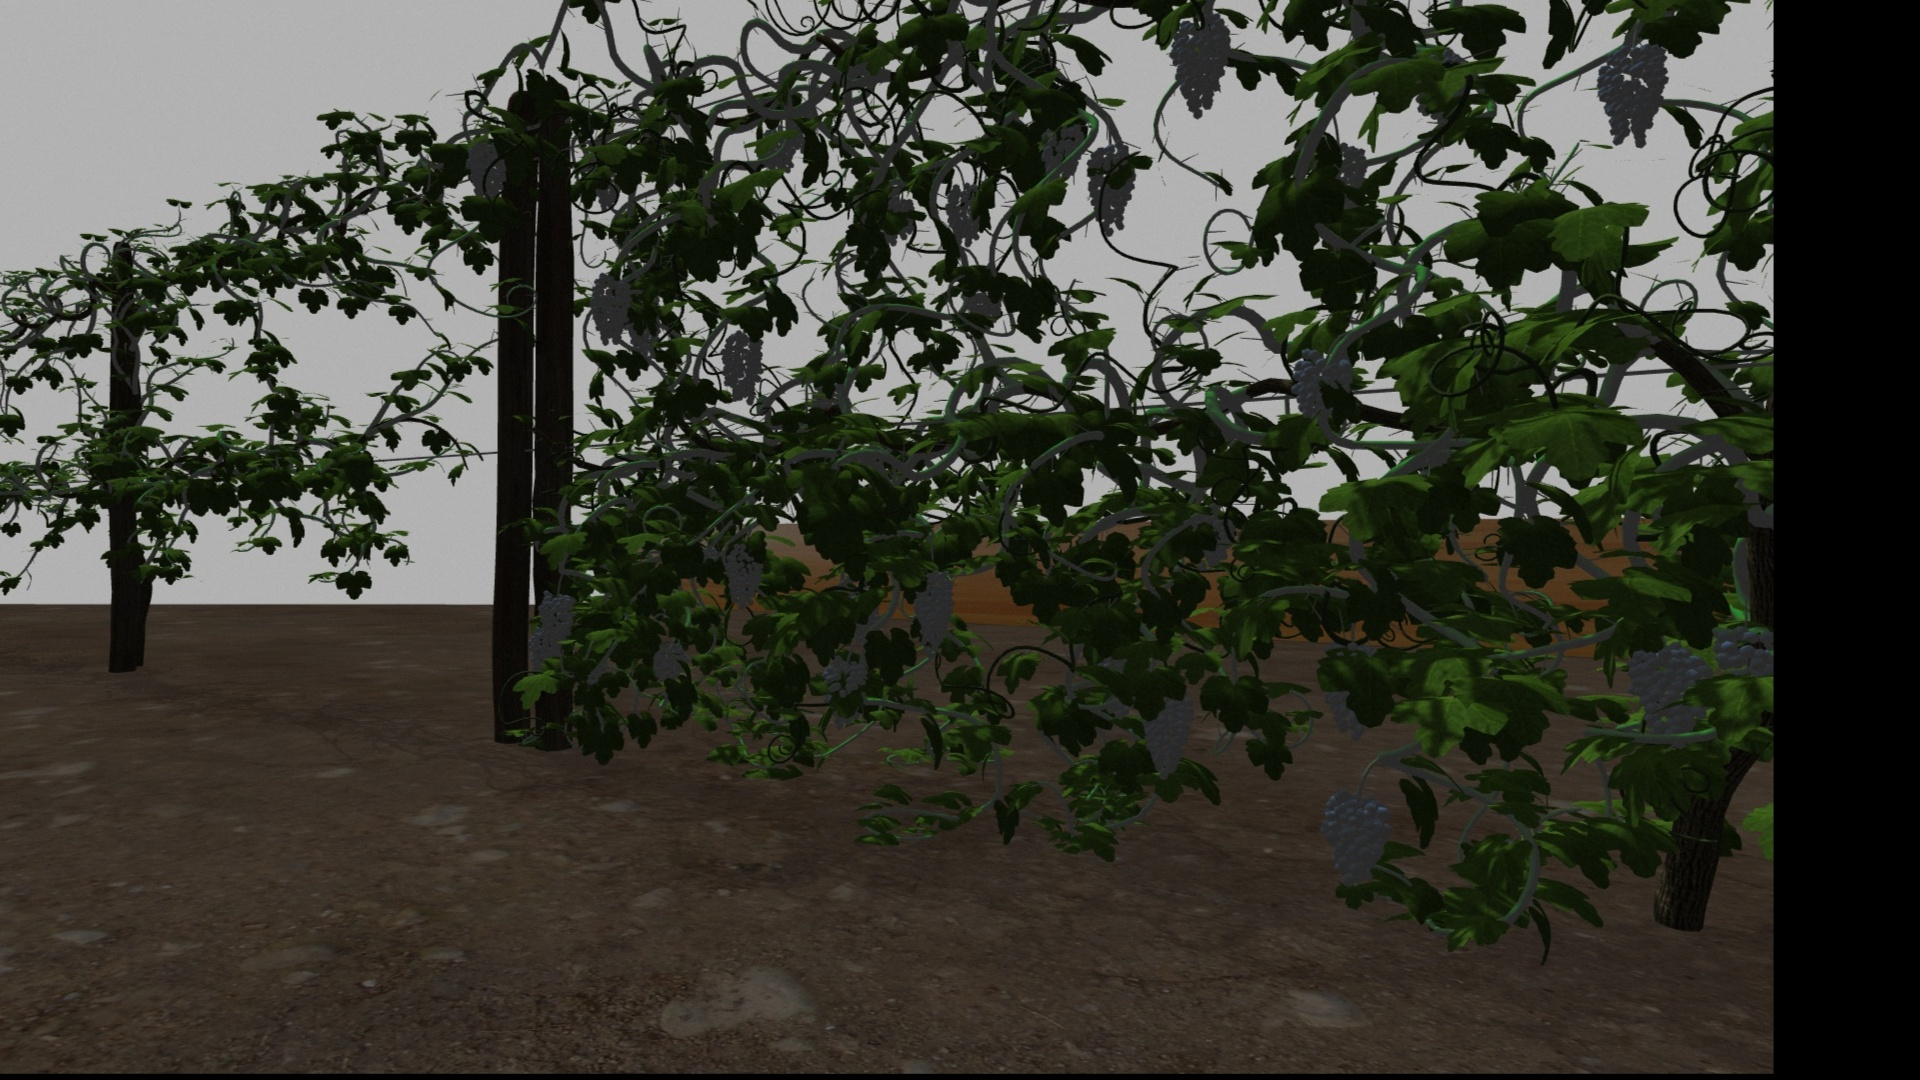grape: (1627, 637, 1713, 738), (1596, 44, 1668, 148), (1320, 789, 1394, 887), (1168, 13, 1233, 117), (1134, 686, 1197, 781), (1291, 348, 1354, 433), (1083, 146, 1138, 236), (909, 571, 957, 651), (721, 330, 764, 404), (589, 272, 629, 343), (1714, 622, 1767, 673), (723, 545, 762, 609), (945, 182, 985, 247), (465, 140, 506, 199), (1040, 123, 1083, 178), (539, 593, 576, 644), (824, 653, 866, 694), (653, 640, 686, 683), (527, 632, 562, 673)
